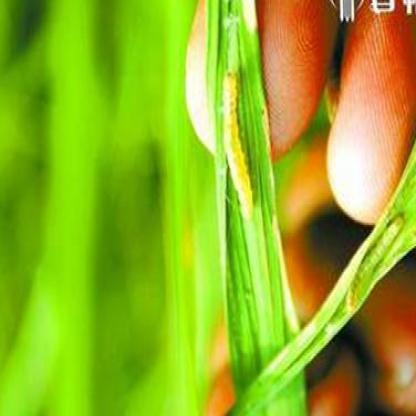leaf-folder: (216, 60, 267, 235), (346, 202, 416, 312)
